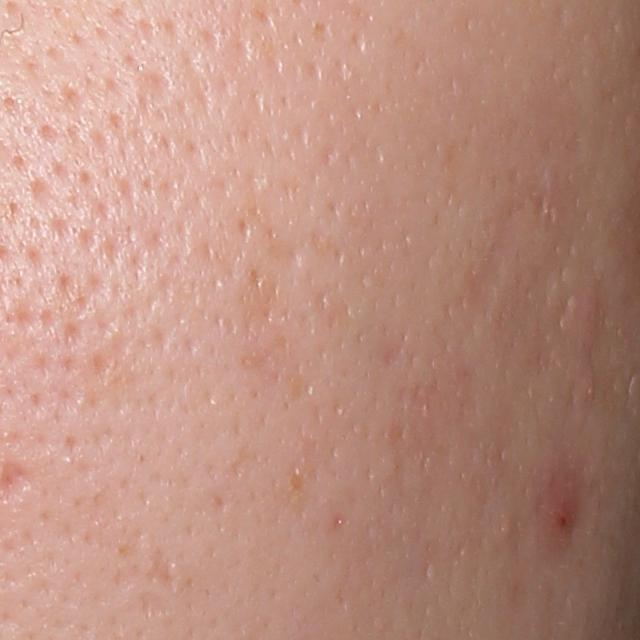atrophic_scar: (133, 65, 178, 107), (145, 544, 179, 596), (135, 589, 178, 623)
papule: (544, 493, 576, 539)
